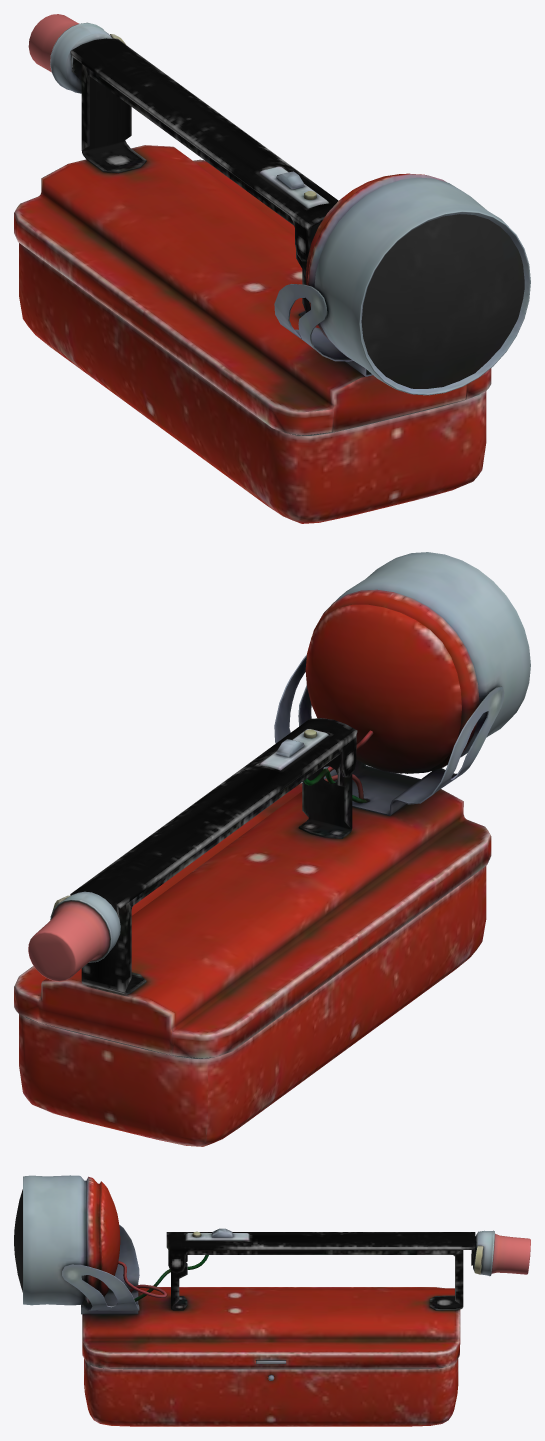
Rendered from vintage_flashlight.glb.
3 renders of one model, top to bottom at view 1: azimuth 30°, elevation 25°; view 2: azimuth 150°, elevation 25°; view 3: azimuth 270°, elevation 25°, orthographic. The views are drawn at different scales.
Parts seen in each view (by area): view 1: vintage_flashlight; view 2: vintage_flashlight; view 3: vintage_flashlight.
Part boxes in pixels (box(x1,y1,x2,y2)): vintage_flashlight: box(14, 14, 530, 523); vintage_flashlight: box(14, 552, 530, 1146); vintage_flashlight: box(14, 1175, 530, 1426).
Bounding box in the file's own units: 0.0959 × 0.1443 × 0.3055.
2 materials, 2 textured.
